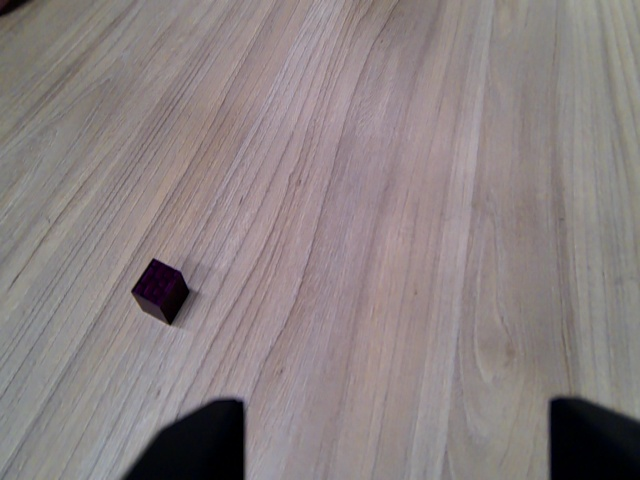brick: (127, 259, 192, 327)
